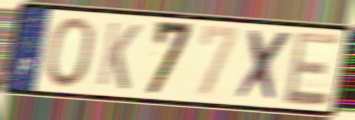7: (145, 18, 195, 98), (196, 24, 242, 102)
E: (282, 29, 343, 108)
K: (94, 19, 143, 93)
O: (43, 15, 97, 90)
X: (233, 27, 295, 106)
